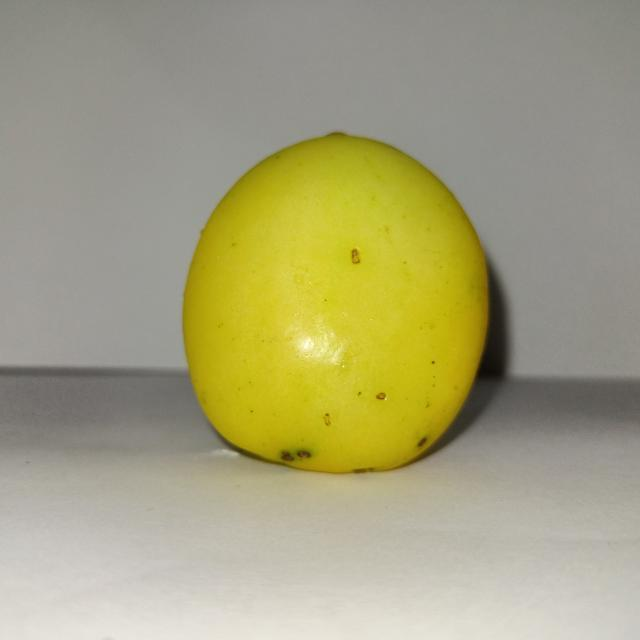Red: (180, 129, 491, 474)
